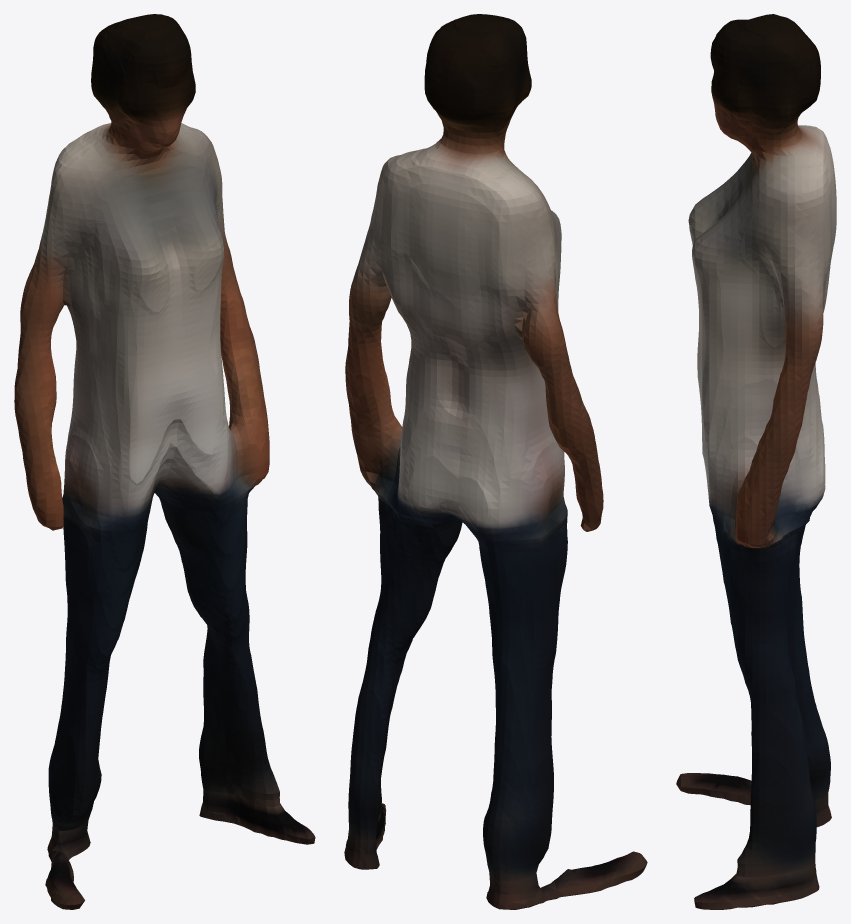
File: Jack.gltf
3 views of the same model, side by side, from view 1: azimuth 30°, elevation 25°; view 2: azimuth 150°, elevation 25°; view 3: azimuth 270°, elevation 25° (orthographic). The views are drawn at different scales.
Parts seen in each view (by area): view 1: mesh; view 2: mesh; view 3: mesh.
Boxes of the visible parts, bbox=[...] form: mesh: bbox=[14, 14, 315, 909]; mesh: bbox=[344, 14, 647, 909]; mesh: bbox=[676, 14, 836, 909].
Bounding box in the file's own units: 0.6533 × 1.98 × 0.35.
